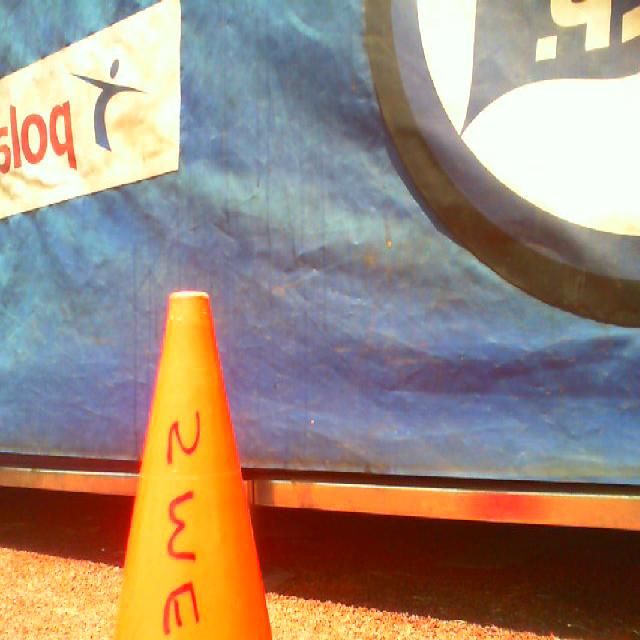cone: (116, 292, 272, 640)
